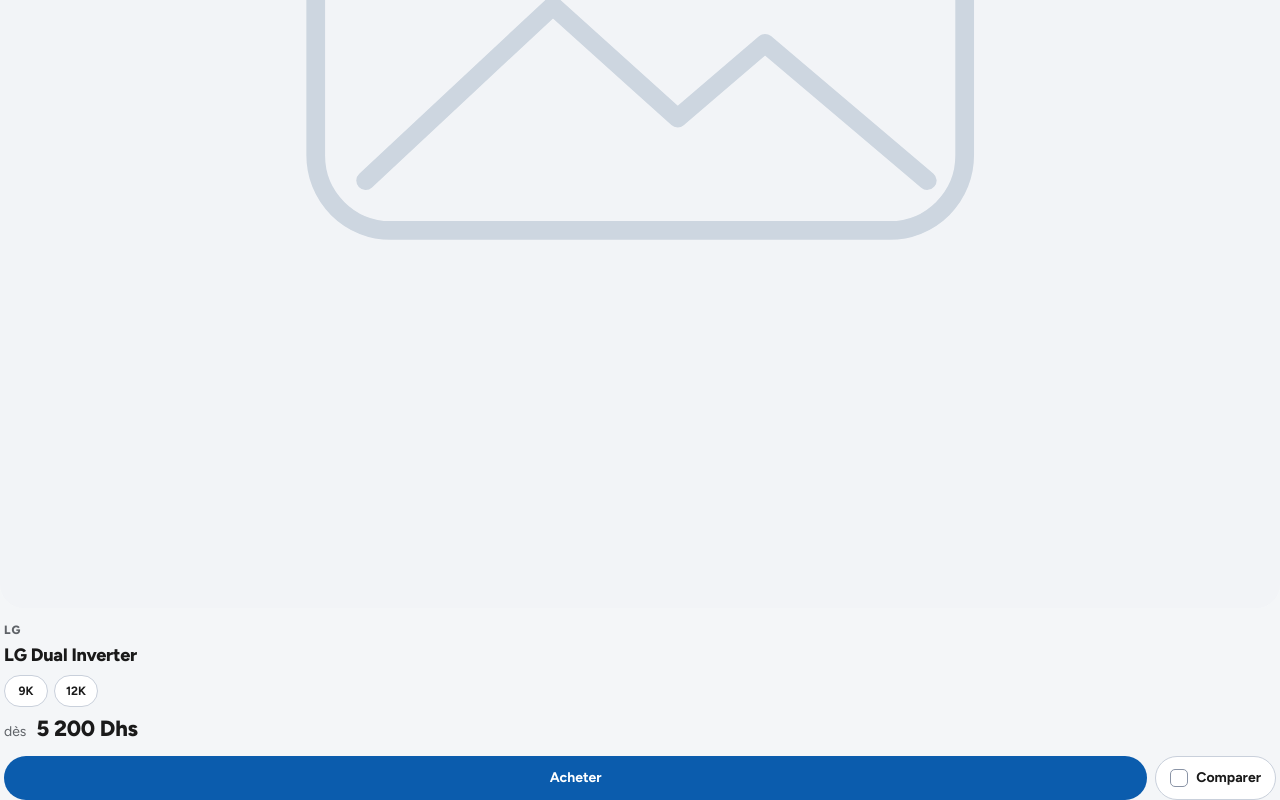
Test: ProductCard per storefront › renders the Arfro card: badge pill, « dès » price, Acheter and Comparer
The width and height of the screenshot is (1280, 800).
(page scrolled)
Expected: the text "dès" is shown, [4, 722, 26, 742]
Click the checkbox named "Comparer LG Dual Inverter".
click(1216, 778)  # box [1155, 756, 1276, 799]
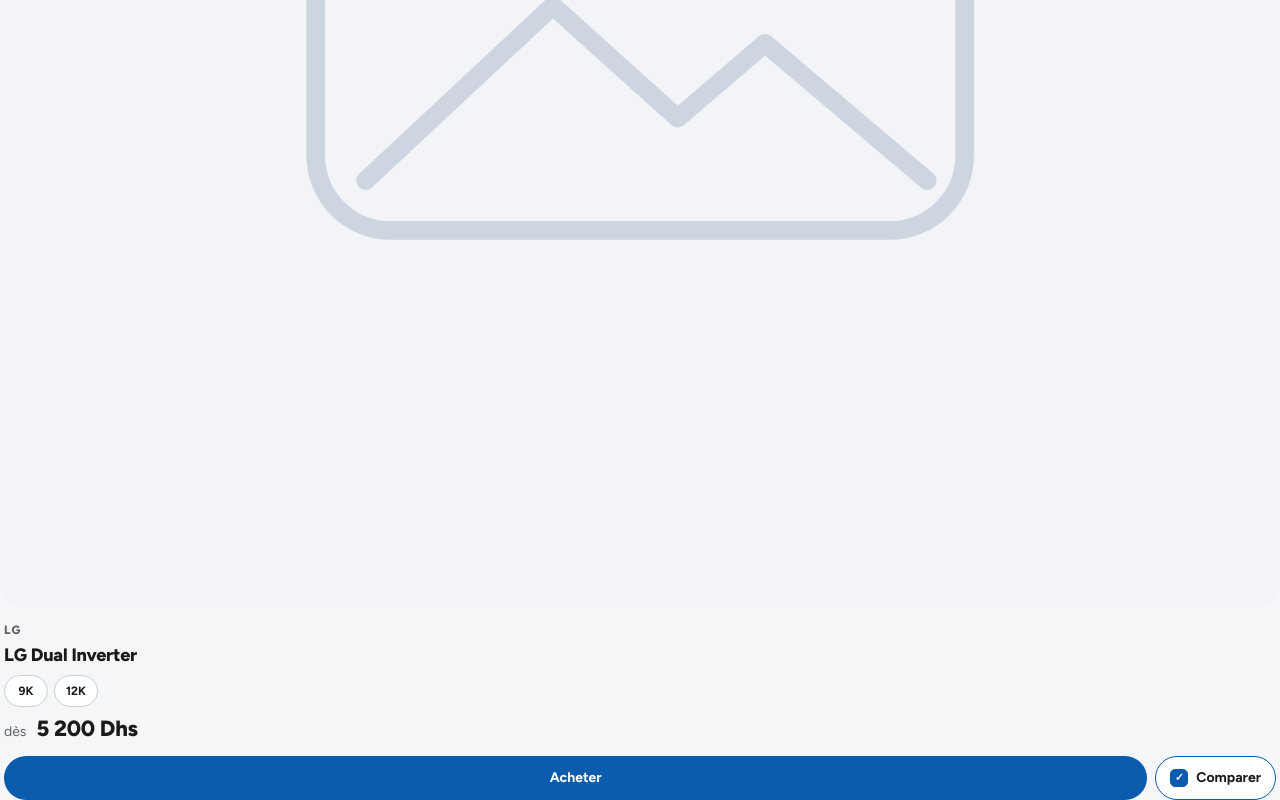
Result: the checkbox named "Comparer LG Dual Inverter" is checked at [1155, 756, 1276, 799]
Note: Picking a variant shows its price and the struck regular price, without « dès ».
Click the button "12K".
click(76, 690)  # box [54, 674, 98, 706]
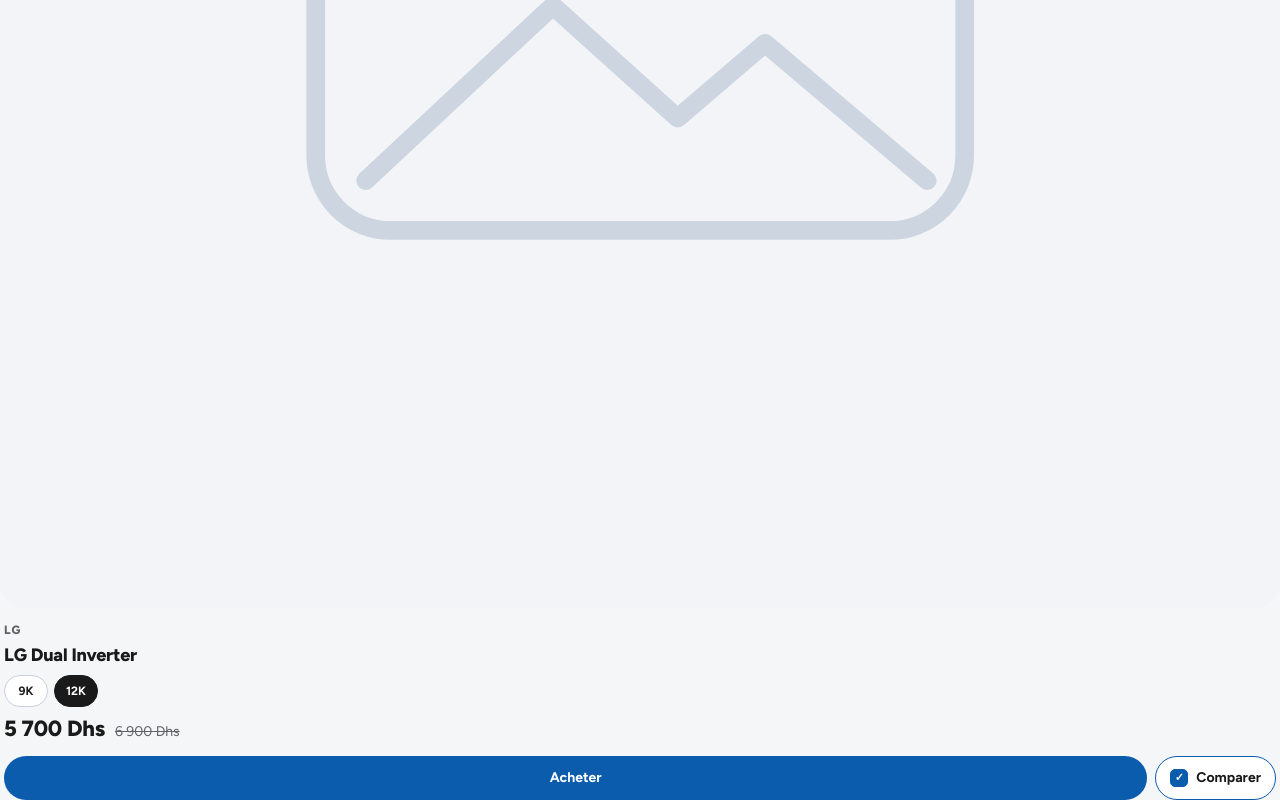
Result: the text "dès" is gone
Result: the text "5 700 Dhs" is shown at [4, 716, 105, 741]
Result: the text "6 900 Dhs" is shown at [115, 722, 180, 742]
